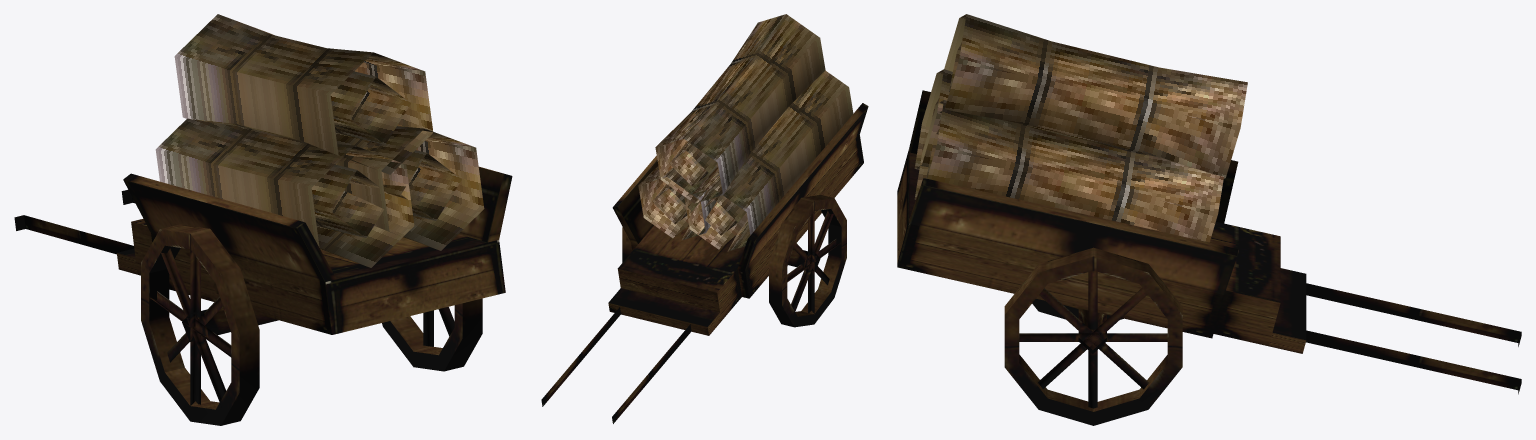
File: Carriage04.obj
The picture shows the model from 3 angles, left to right: view 1: azimuth 30°, elevation 25°; view 2: azimuth 150°, elevation 25°; view 3: azimuth 270°, elevation 25°; orthographic projection. The views are drawn at different scales.
Parts seen in each view (by area): view 1: Mesh_1, Mesh_0; view 2: Mesh_1, Mesh_0; view 3: Mesh_0, Mesh_1.
Boxes of the visible parts, x1,y1,x2,y2 form: Mesh_1: (155,14,484,267); Mesh_0: (14,166,512,425); Mesh_1: (638,14,853,251); Mesh_0: (541,103,868,423); Mesh_0: (897,90,1521,425); Mesh_1: (914,14,1247,242).
Bounding box in the file's own units: 1.79 × 2.74 × 4.37.
Materials: 2 (2 with a texture image).
